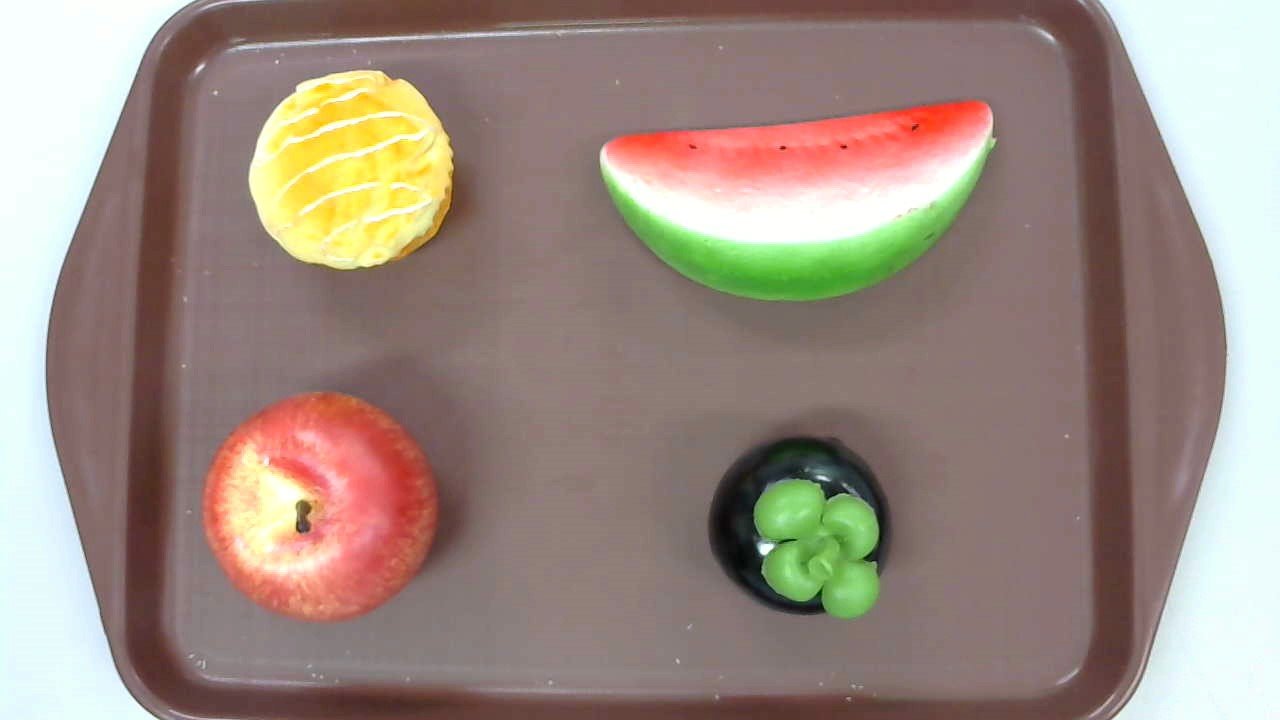cupcake: (247, 70, 453, 271)
mangosteen: (705, 434, 895, 621)
red apple: (201, 391, 439, 622)
water melon: (599, 100, 997, 302)
